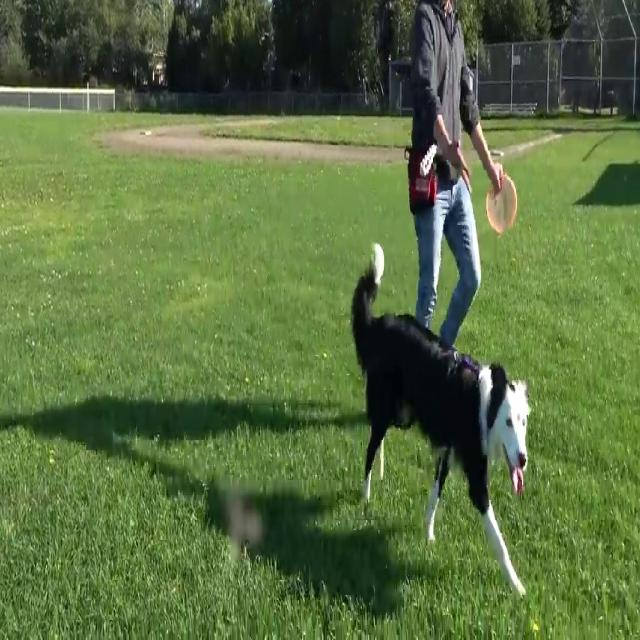Unleashed_Dog: (352, 241, 532, 598)
